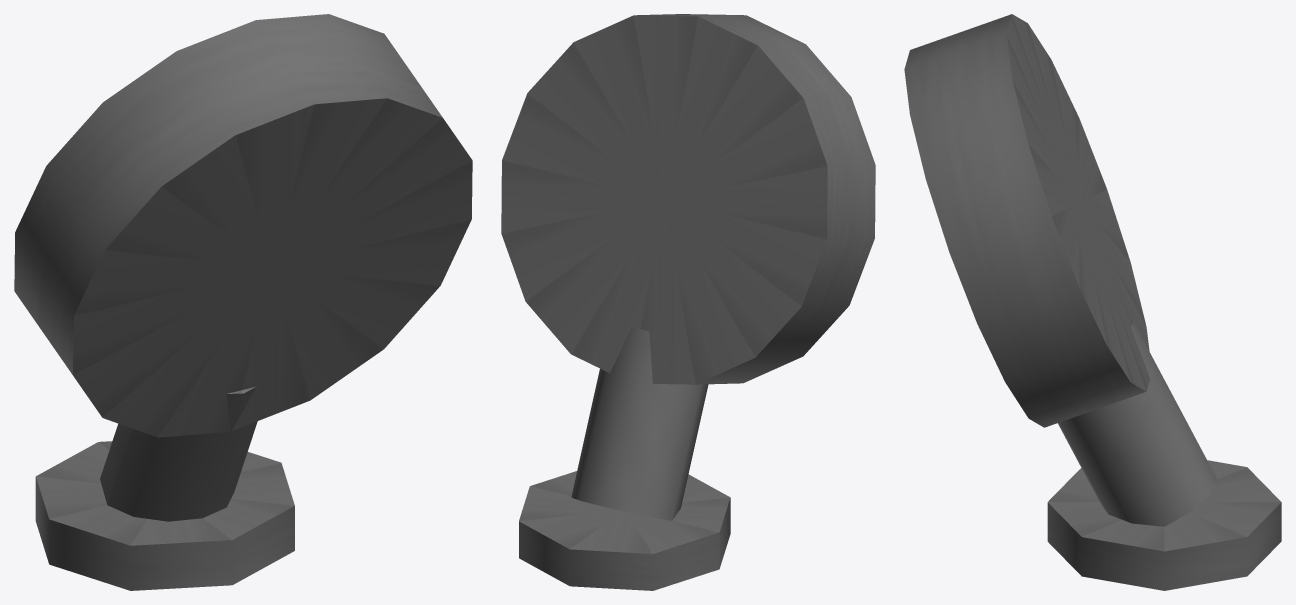
The model's file is mastarmcurve_10x2_c0_thin_down.obj.
3 renders of one model, left to right at view 1: azimuth 30°, elevation 25°; view 2: azimuth 150°, elevation 25°; view 3: azimuth 270°, elevation 25°, orthographic. The views are drawn at different scales.
Visible parts, largest first — view 1: mastarm_10x2_c0_thin_down; view 2: mastarm_10x2_c0_thin_down; view 3: mastarm_10x2_c0_thin_down.
Part boxes in pixels (x1,y1,x2,y2): mastarm_10x2_c0_thin_down: (14,14,472,590); mastarm_10x2_c0_thin_down: (501,14,875,590); mastarm_10x2_c0_thin_down: (904,14,1281,590).
Bounding box in the file's own units: 0.6855 × 0.9582 × 0.6447.
